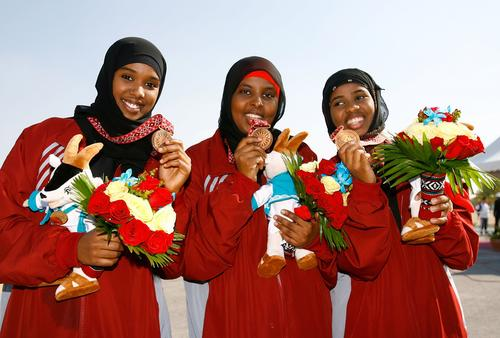face: (113, 58, 156, 118), (232, 74, 277, 131), (330, 82, 373, 134)
